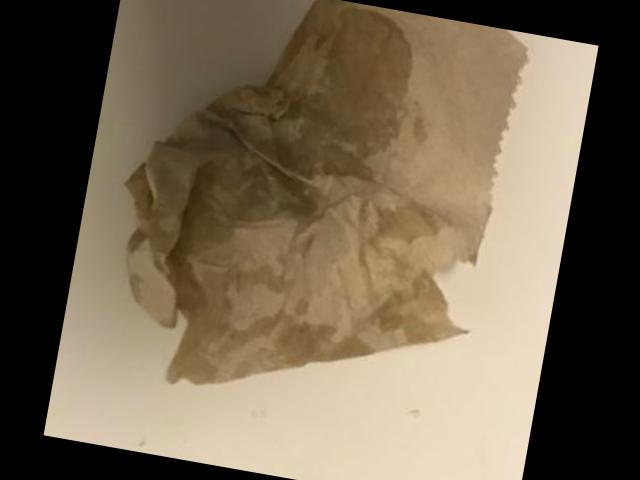cardboard paper: (127, 0, 527, 386)
